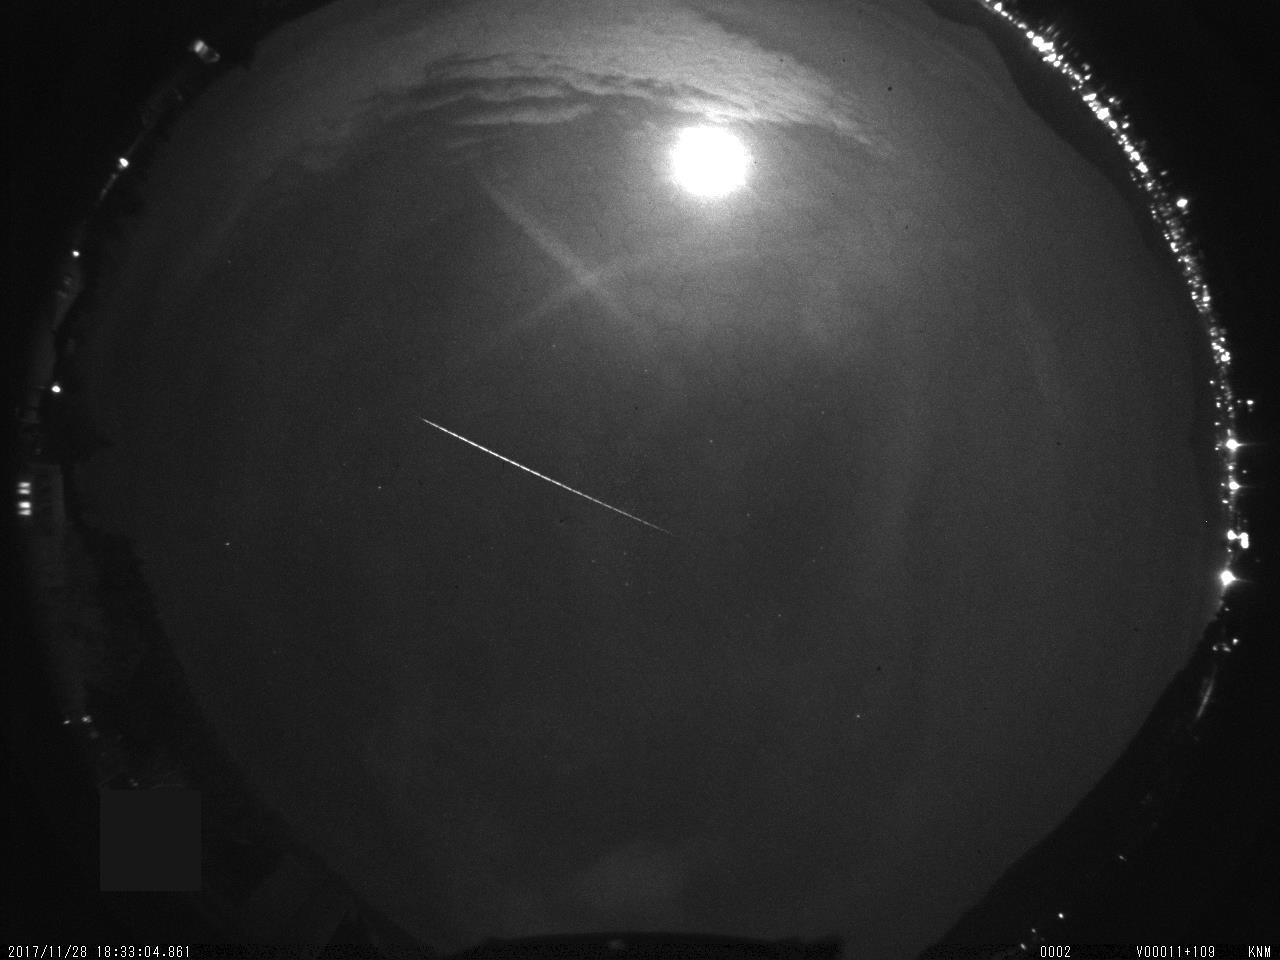meteor: (353, 346, 781, 584)
